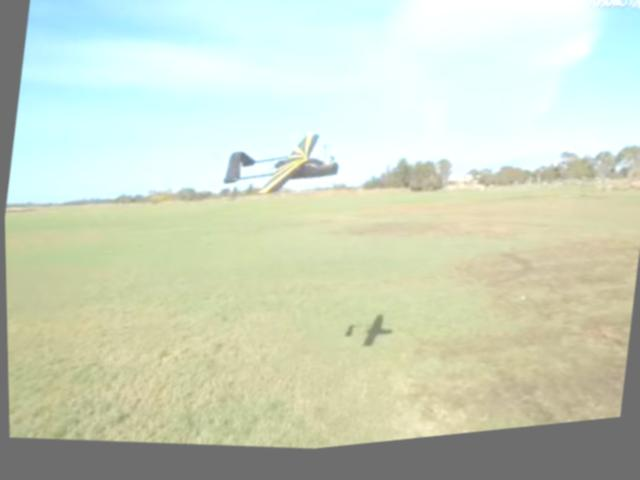uav: (213, 115, 348, 225)
